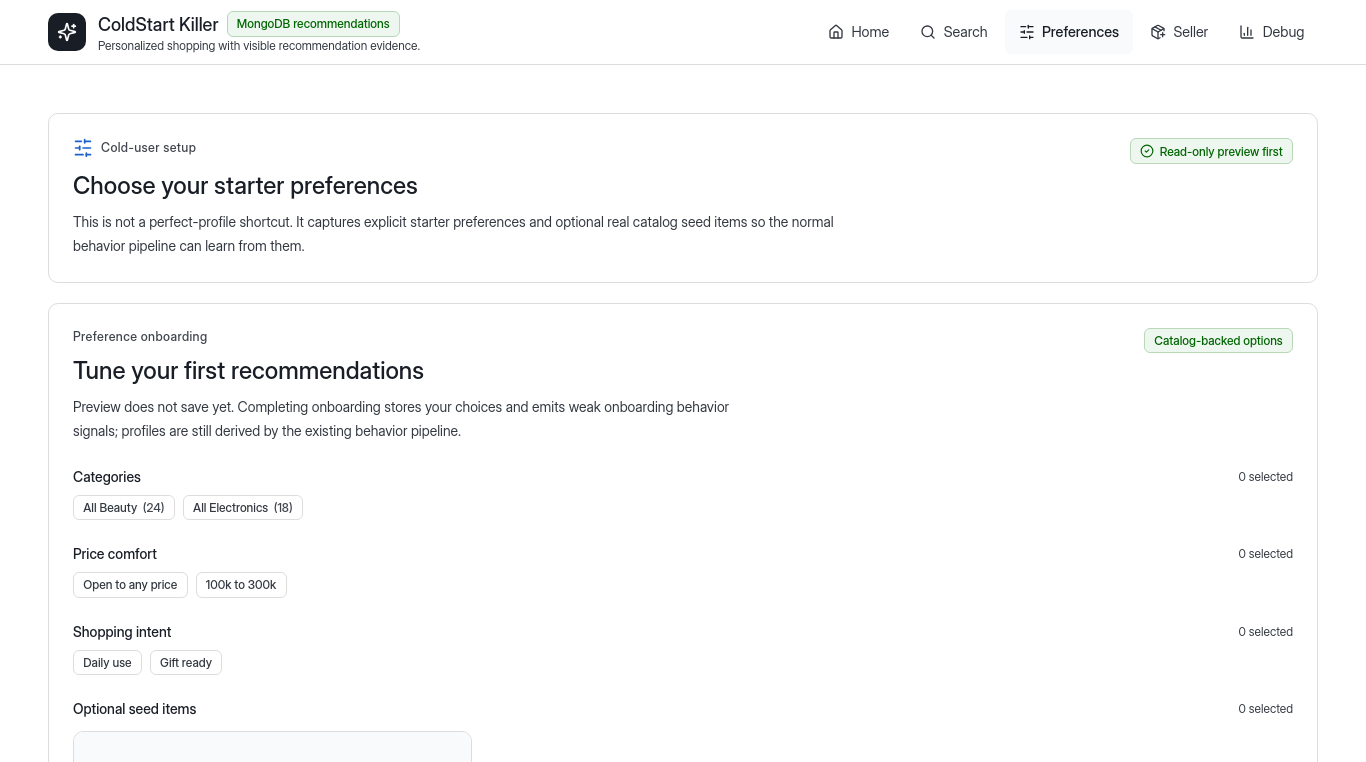
Scenario: Phase 11 routes › completes onboarding and sends only selected preferences to the API
Expected: the heading "Choose your starter preferences" is shown, [73, 171, 418, 200]
What coordinates should you click on to do the following:
click the button "All Beauty (24)"
I would click on:
 (124, 507)
Its box is [73, 495, 175, 520].
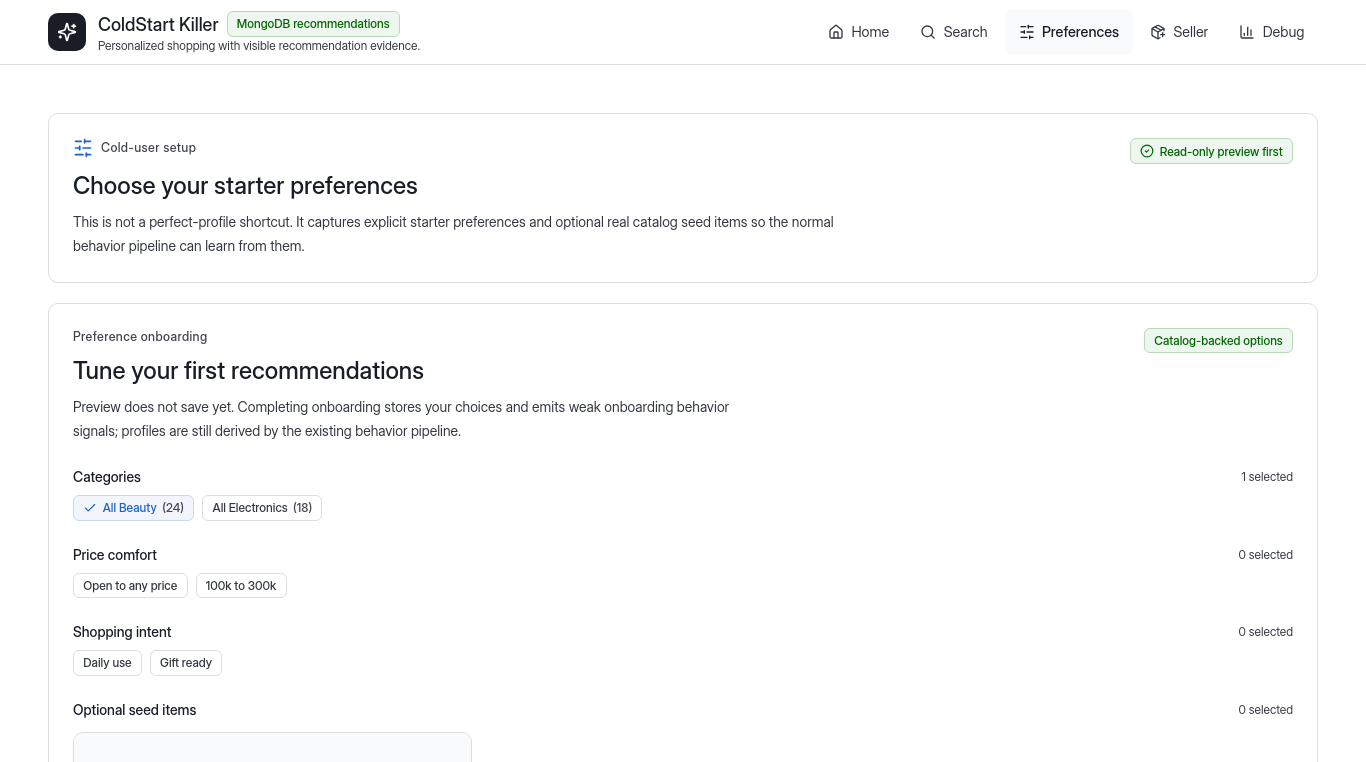
What coordinates should you click on to do the following:
click the button "100k to 300k"
I would click on:
 (241, 586)
Its box is [196, 573, 287, 598].
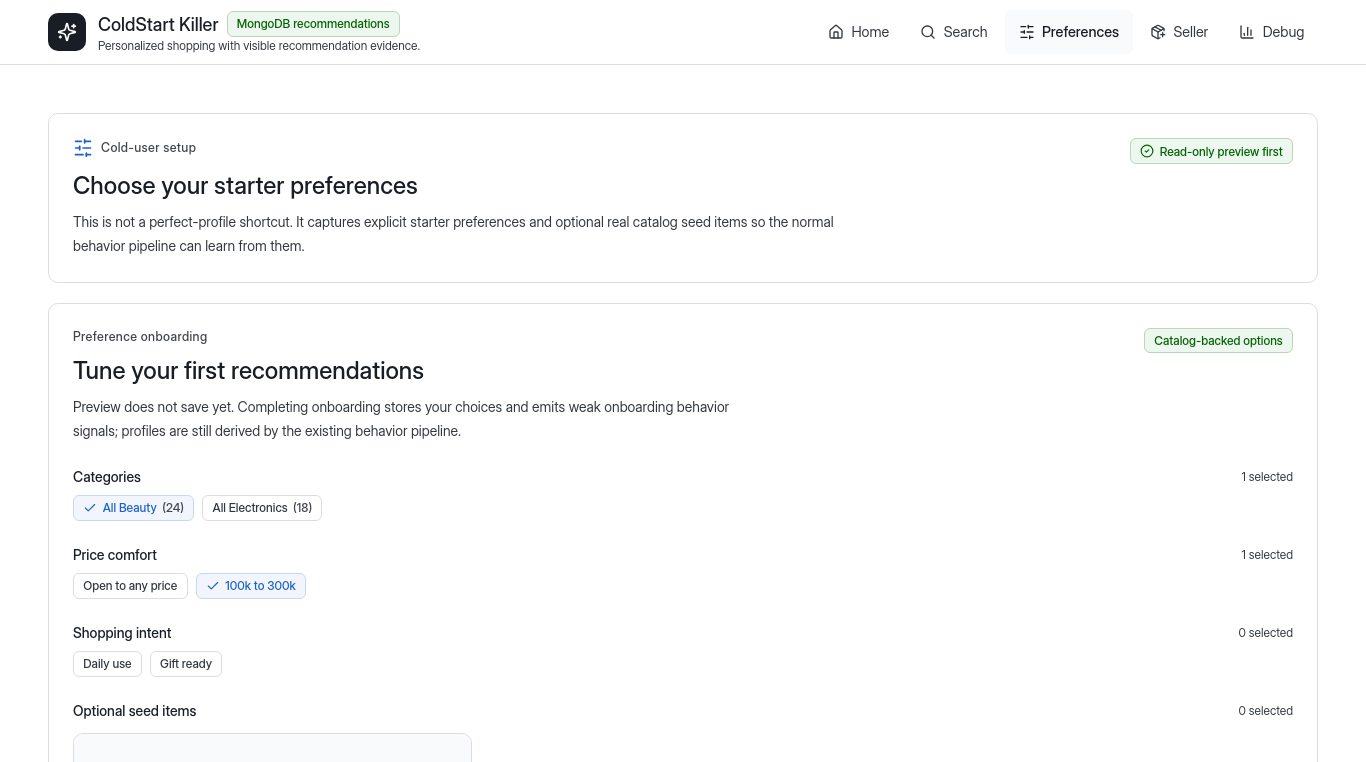
What coordinates should you click on to do the following:
click the button "Daily use"
I would click on:
 (107, 664)
Its box is [73, 651, 142, 677].
(page scrolled)
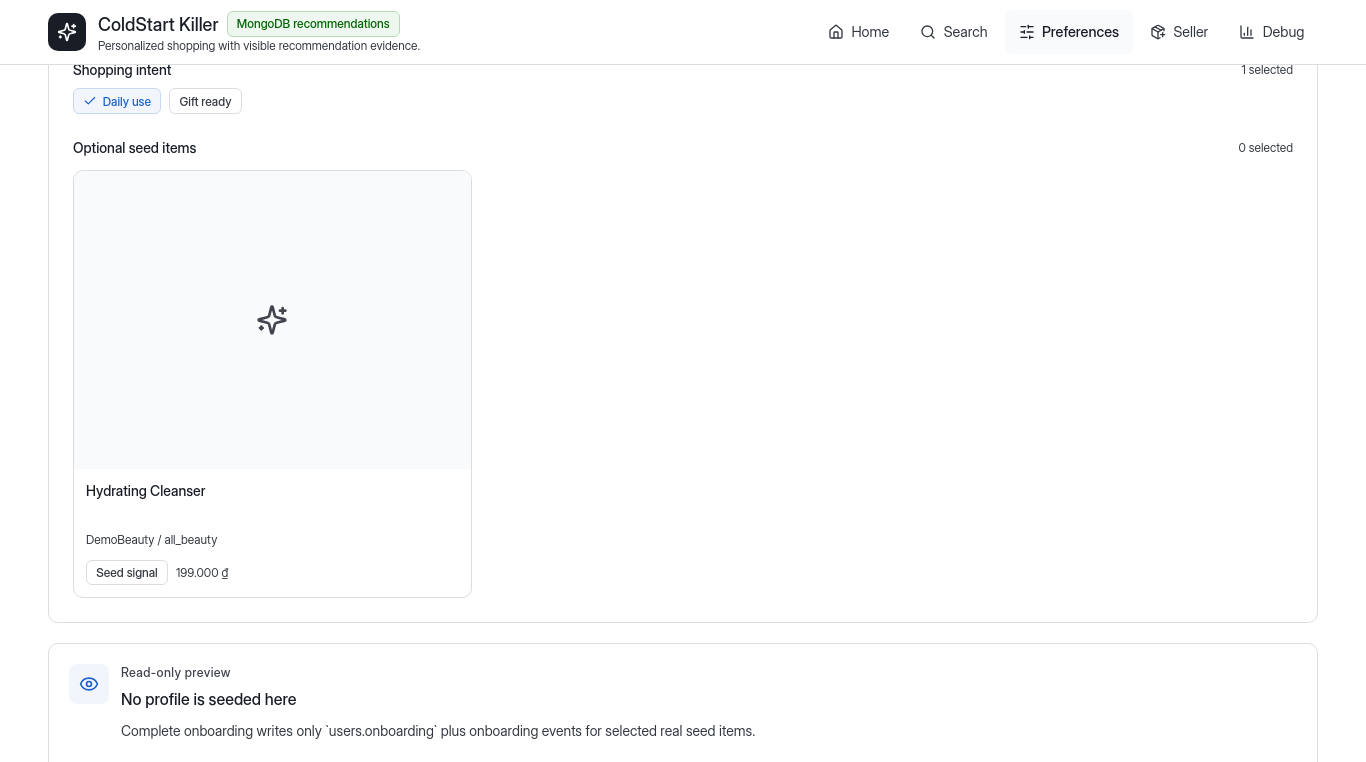
What coordinates should you click on to do the following:
click the button "Hydrating Cleanser"
I would click on:
 (272, 384)
Its box is [73, 170, 472, 598].
(page scrolled)
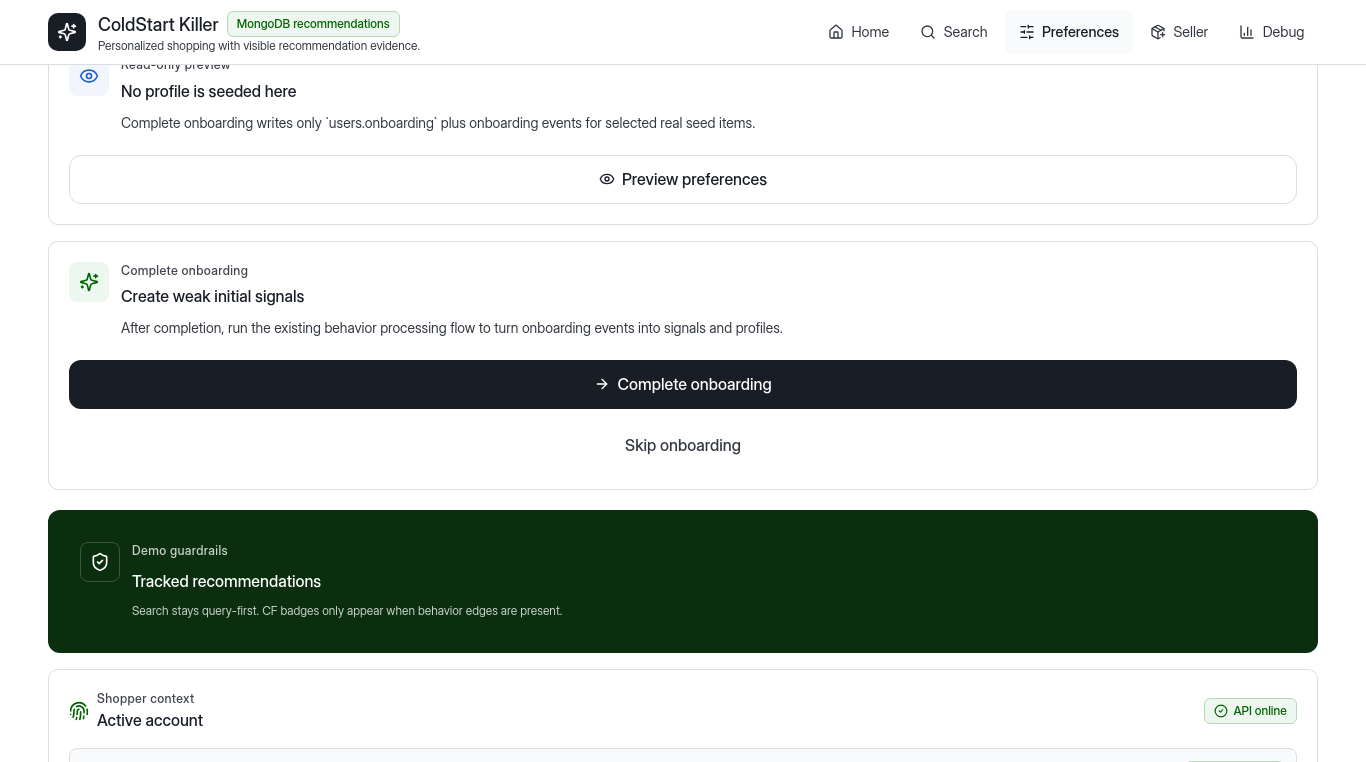
What coordinates should you click on to do the following:
click the button "Complete onboarding"
I would click on:
 (683, 384)
Its box is [69, 360, 1297, 409].
(page scrolled)
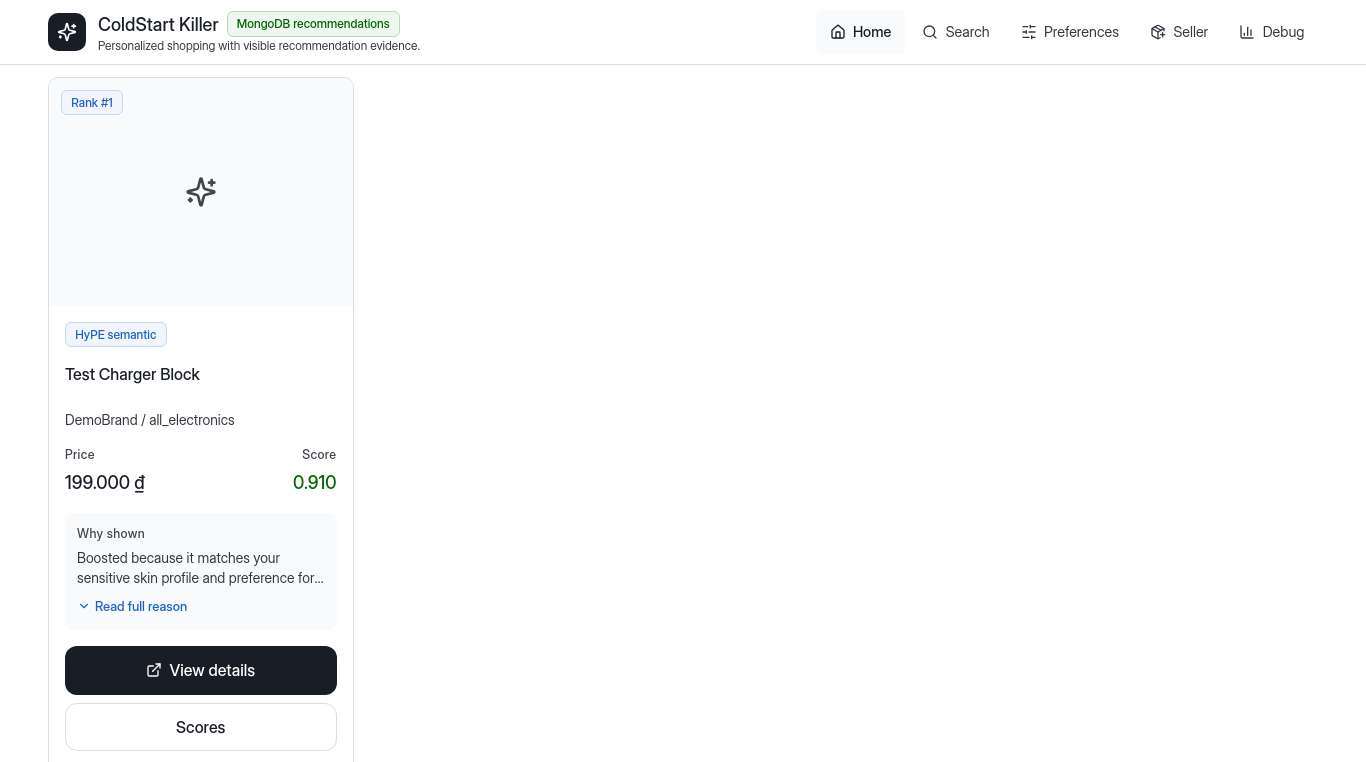
Result: the heading "Test Charger Block" is shown at [65, 364, 200, 384]
